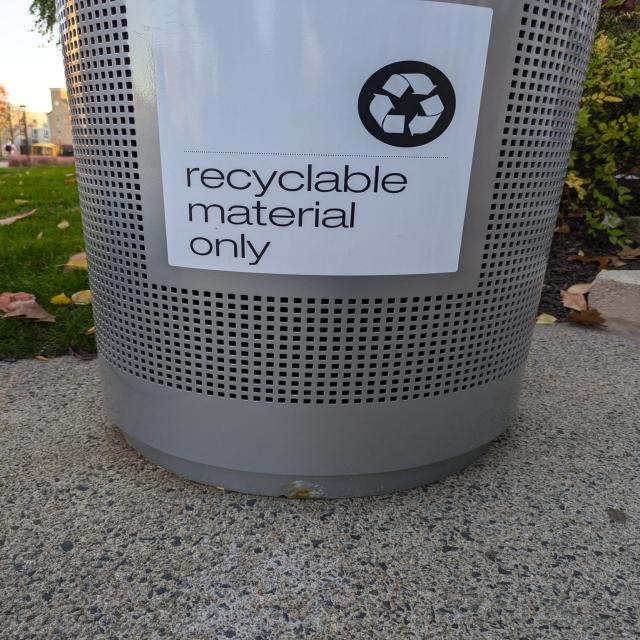Filiform Corrosion: (280, 481, 327, 500)
